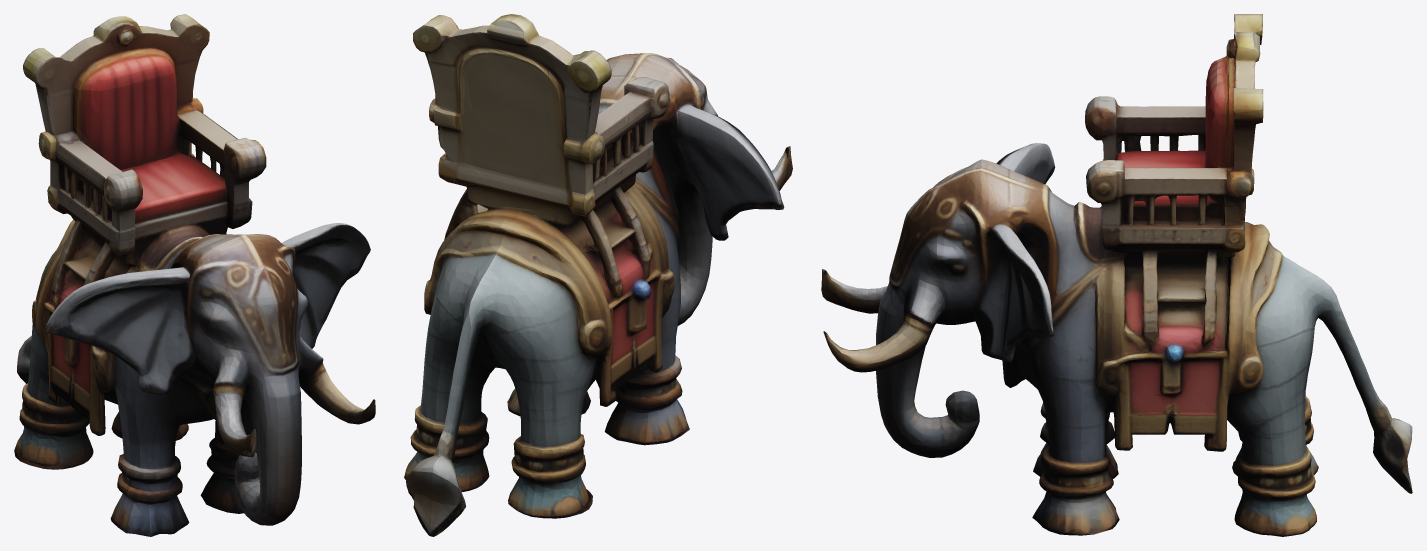
Rendered from elephant_ori.glb.
3 views of the same model, side by side, from view 1: azimuth 30°, elevation 25°; view 2: azimuth 150°, elevation 25°; view 3: azimuth 270°, elevation 25° (orthographic). The views are drawn at different scales.
Visible parts, largest first — view 1: world; view 2: world; view 3: world.
Part boxes in pixels (x1,y1,x2,y2): world: [14, 14, 375, 536]; world: [404, 14, 792, 536]; world: [821, 14, 1412, 536].
Bounding box in the file's own units: 0.6791 × 0.8596 × 1.
1 material, 1 textured.
